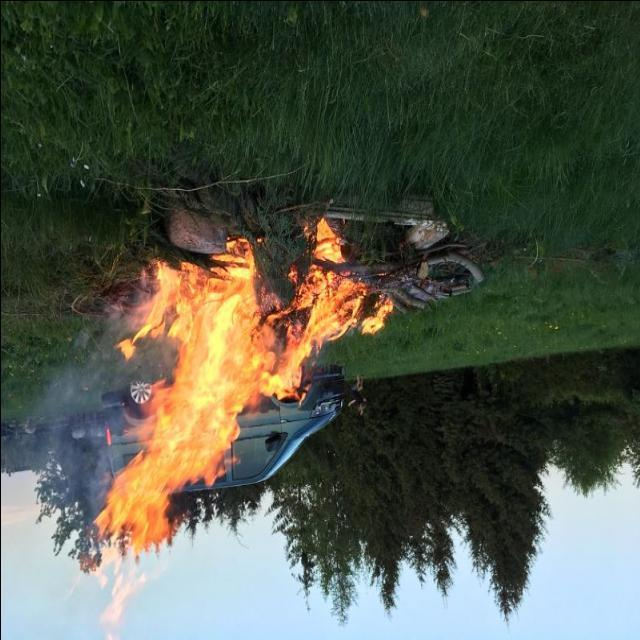Fire: (45, 230, 388, 636)
